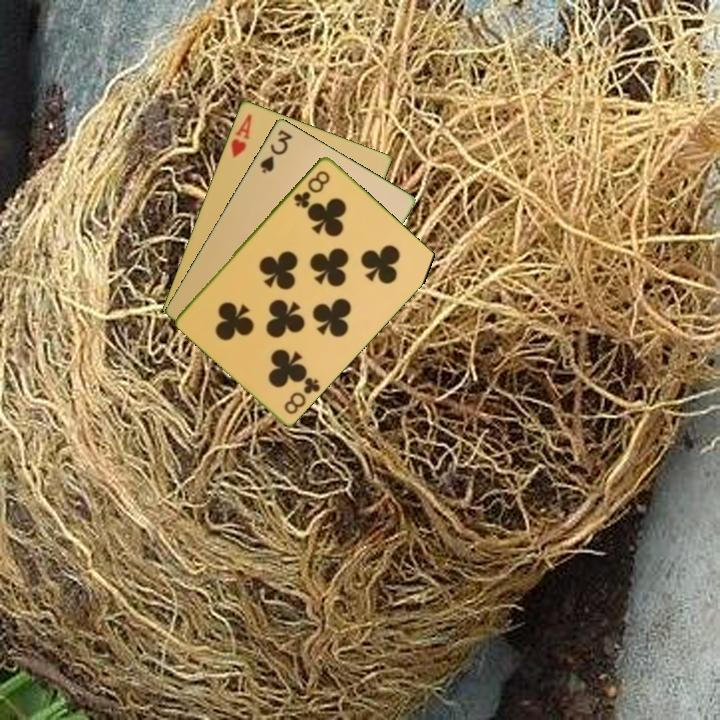3s: (256, 126, 296, 176)
8c: (290, 167, 333, 211), (280, 373, 323, 417)
Ah: (227, 110, 255, 160)
